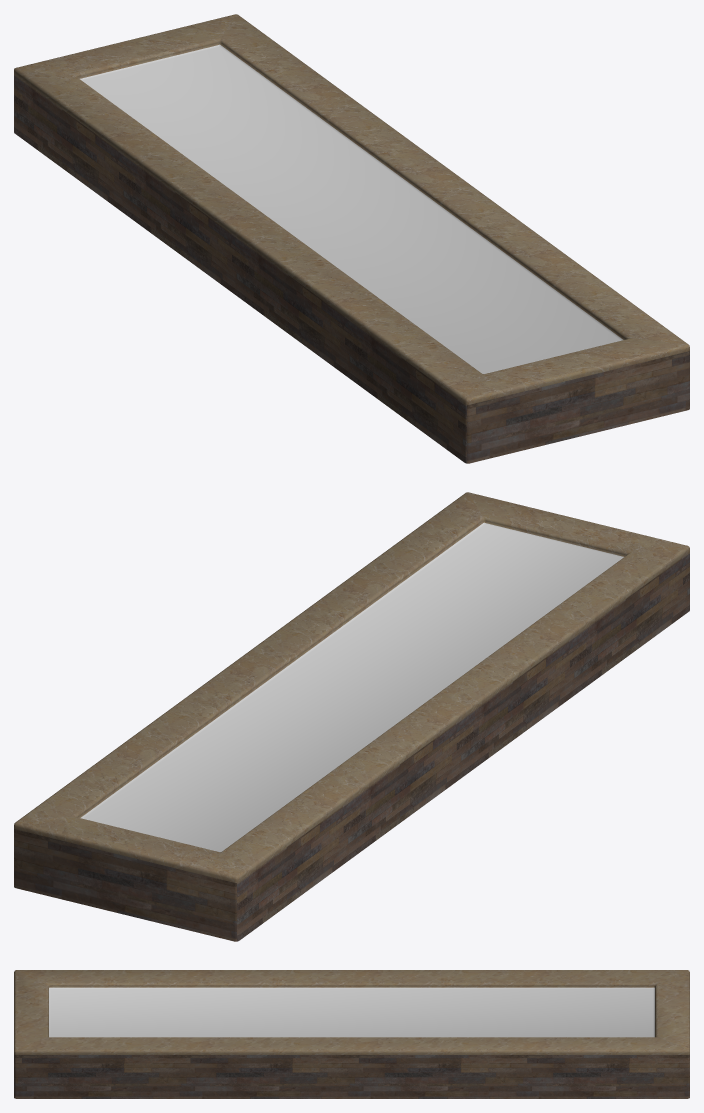
The model's file is garden_2.fbx.
3 renders of one model, top to bottom at view 1: azimuth 30°, elevation 25°; view 2: azimuth 150°, elevation 25°; view 3: azimuth 270°, elevation 25°, orthographic. The views are drawn at different scales.
Parts seen in each view (by area): view 1: Cube.001; view 2: Cube.001; view 3: Cube.001.
Part boxes in pixels (x1,y1,x2,y2): Cube.001: [14, 14, 689, 463]; Cube.001: [14, 492, 689, 941]; Cube.001: [14, 970, 689, 1098].
Bounding box in the file's own units: 700 × 55 × 200.
